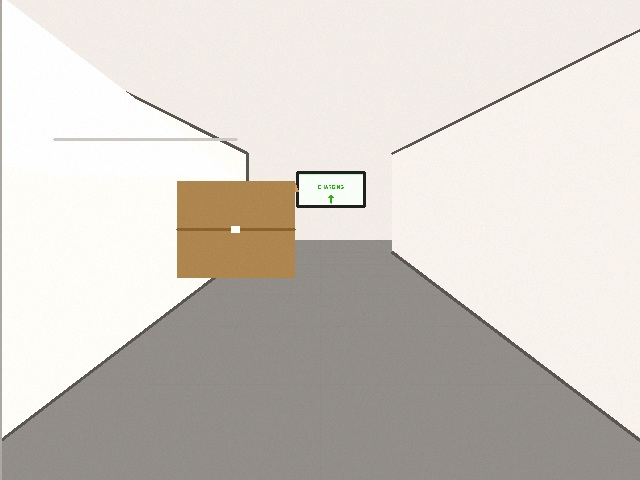box: (177, 181, 298, 277)
directional_sign: (297, 172, 364, 206)
hospital_bed: (0, 0, 236, 479)
